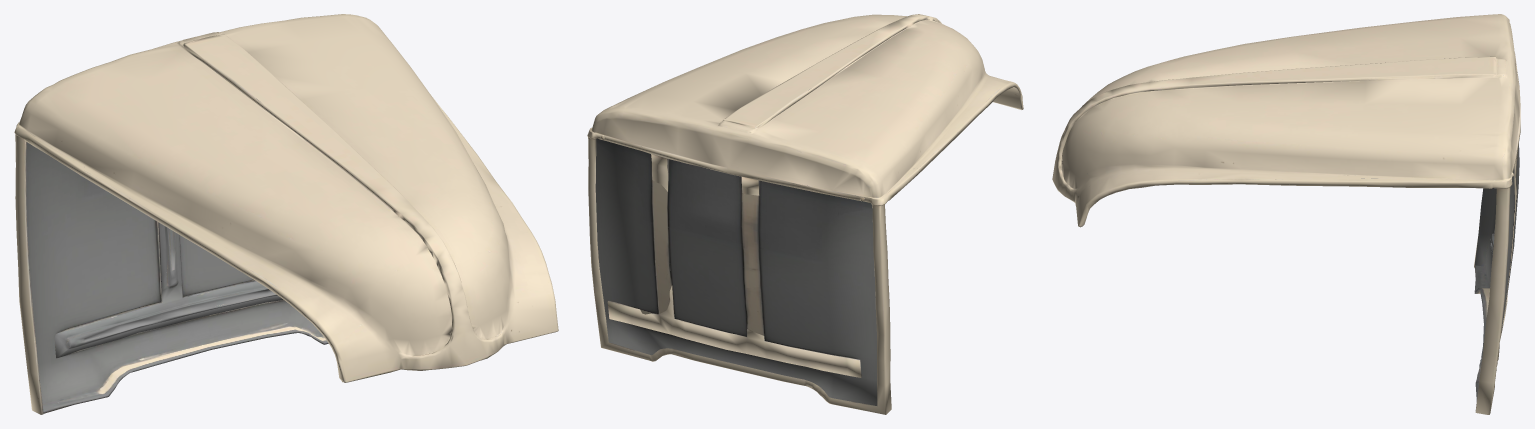
The model's file is optimized_glb.glb.
3 views of the same model, side by side, from view 1: azimuth 30°, elevation 25°; view 2: azimuth 150°, elevation 25°; view 3: azimuth 270°, elevation 25° (orthographic). The views are drawn at different scales.
Visible parts, largest first — view 1: hood; view 2: hood; view 3: hood.
Part boxes in pixels (box(x1,y1,x2,y2)): hood: box(14, 14, 558, 414); hood: box(587, 14, 1023, 414); hood: box(1052, 14, 1520, 414).
Size of the model in its own units: 0.7676 by 0.6504 by 0.998.
1 material, 1 textured.
